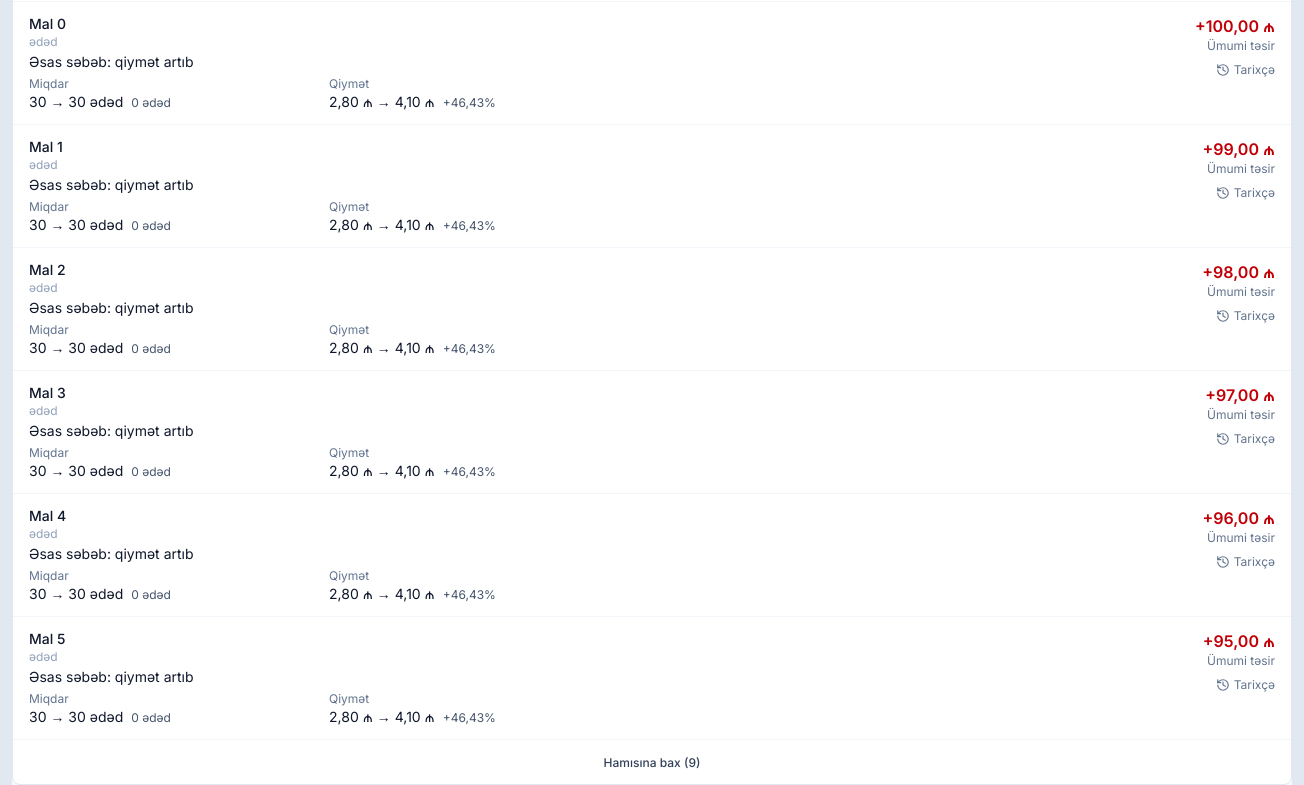
it: a long list › shows the rest when asked
The width and height of the screenshot is (1304, 785).
(page scrolled)
Click the button "Hamısına bax (9)" at (652, 763), box top-left (604, 755), bottom-right (700, 771)
(page scrolled)
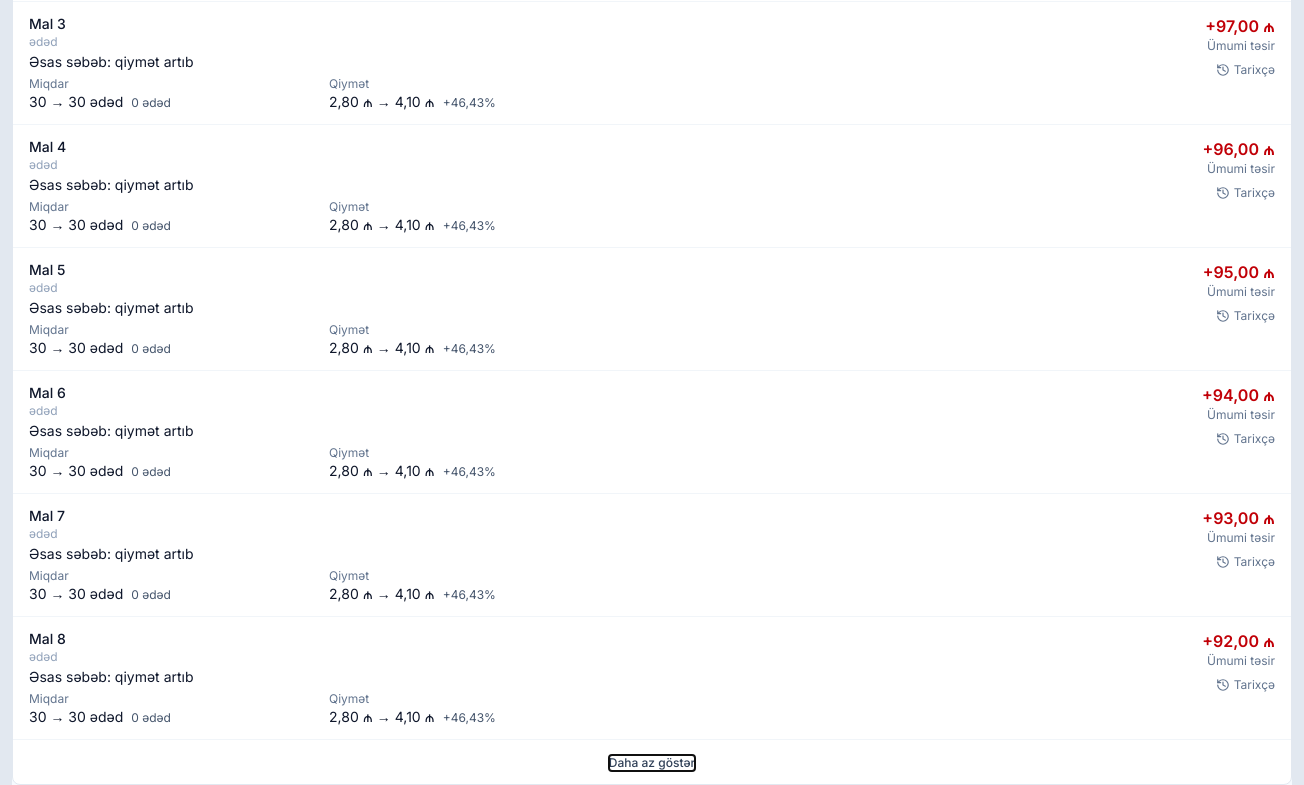
Now the text "Mal 8" is shown, box top-left (29, 629), bottom-right (66, 649)
